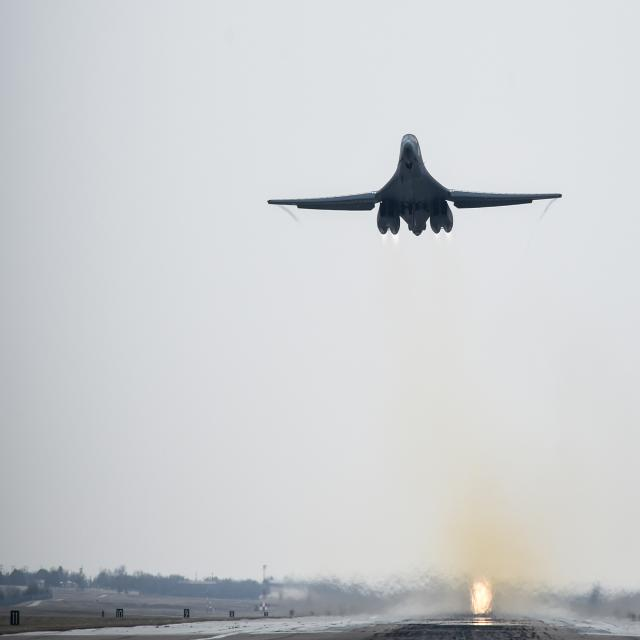MIL_Plane: (267, 69, 562, 172)
